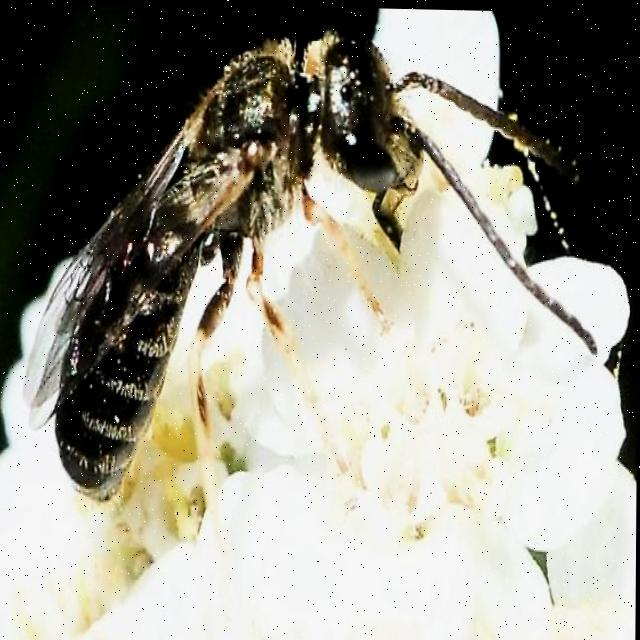Lasioglossum: (34, 21, 608, 565)
